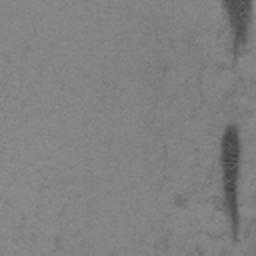Oxide scale of plate system: (218, 120, 246, 246), (220, 0, 256, 69)
